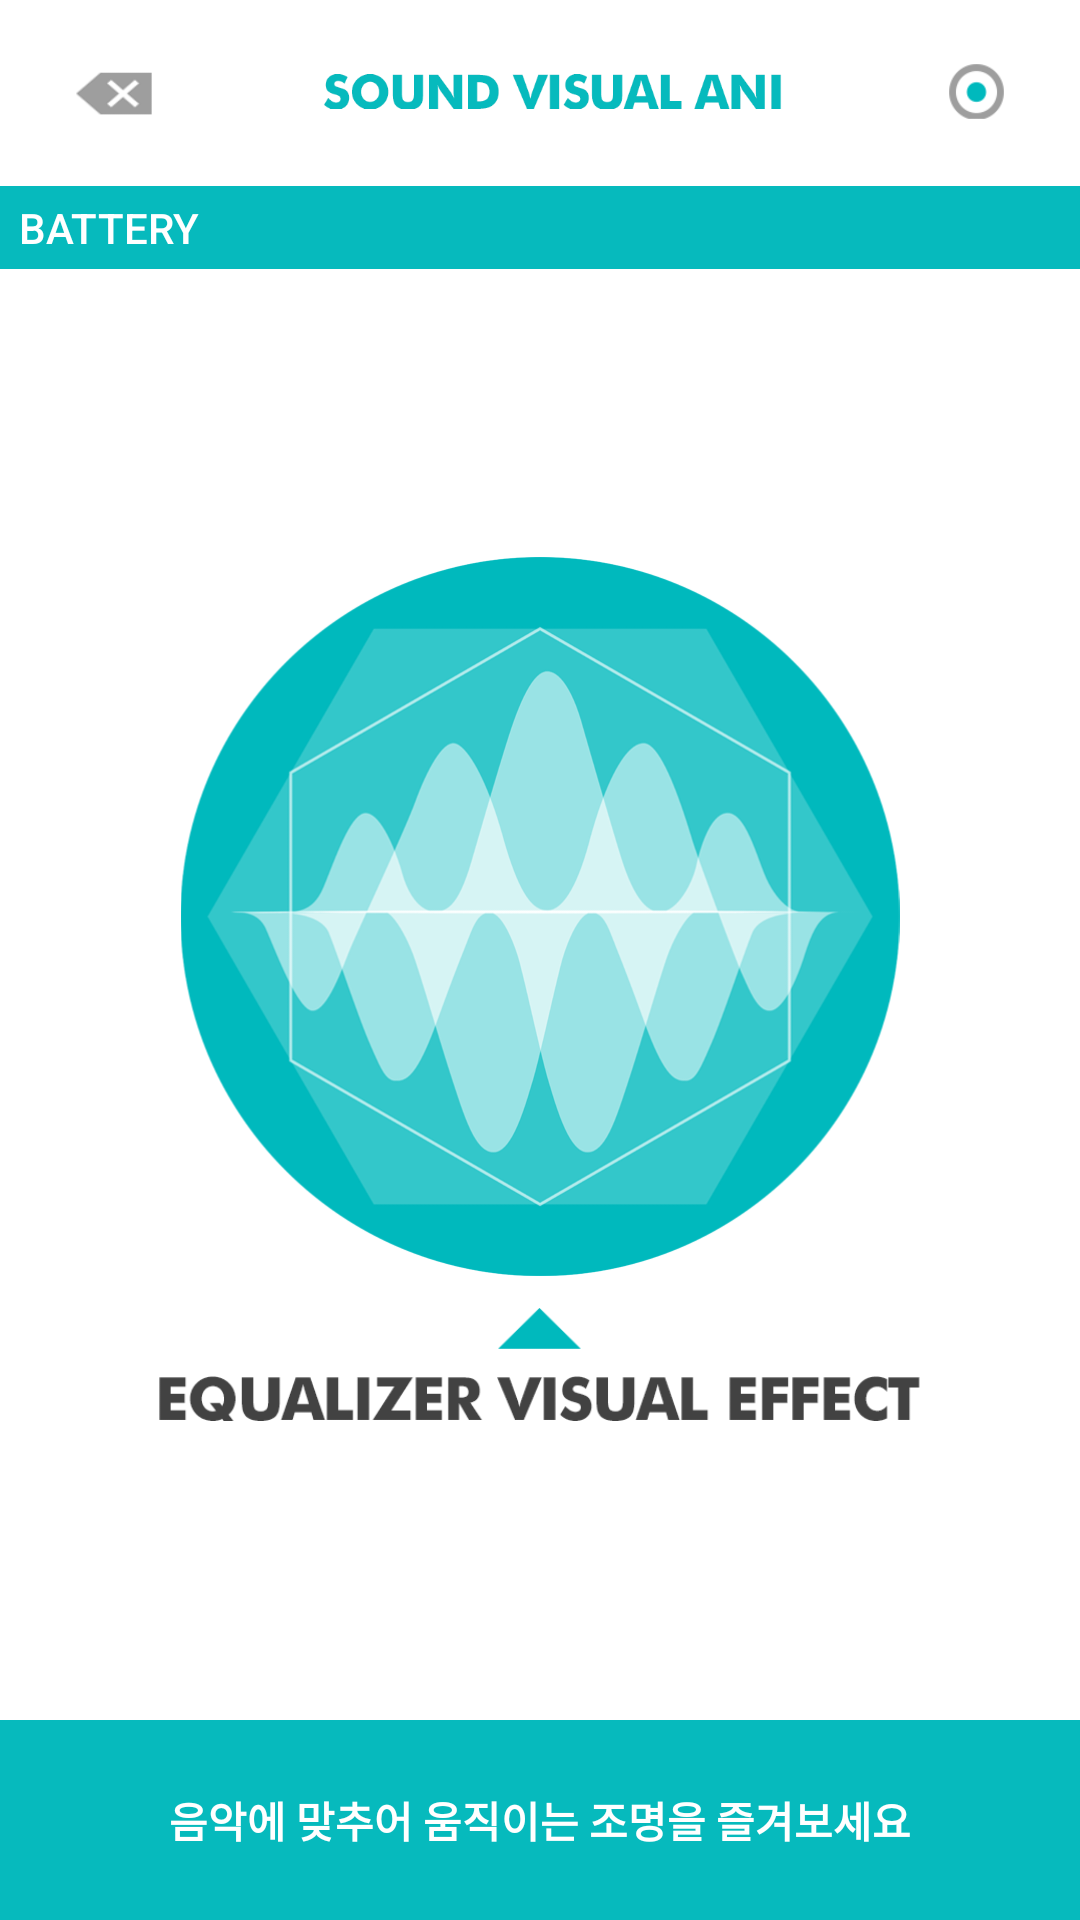

Named icons in this screenshot (1080px×1920px) and their bounding boxes, (x1, y1, x2, y2):
back: (76, 72, 152, 115)
